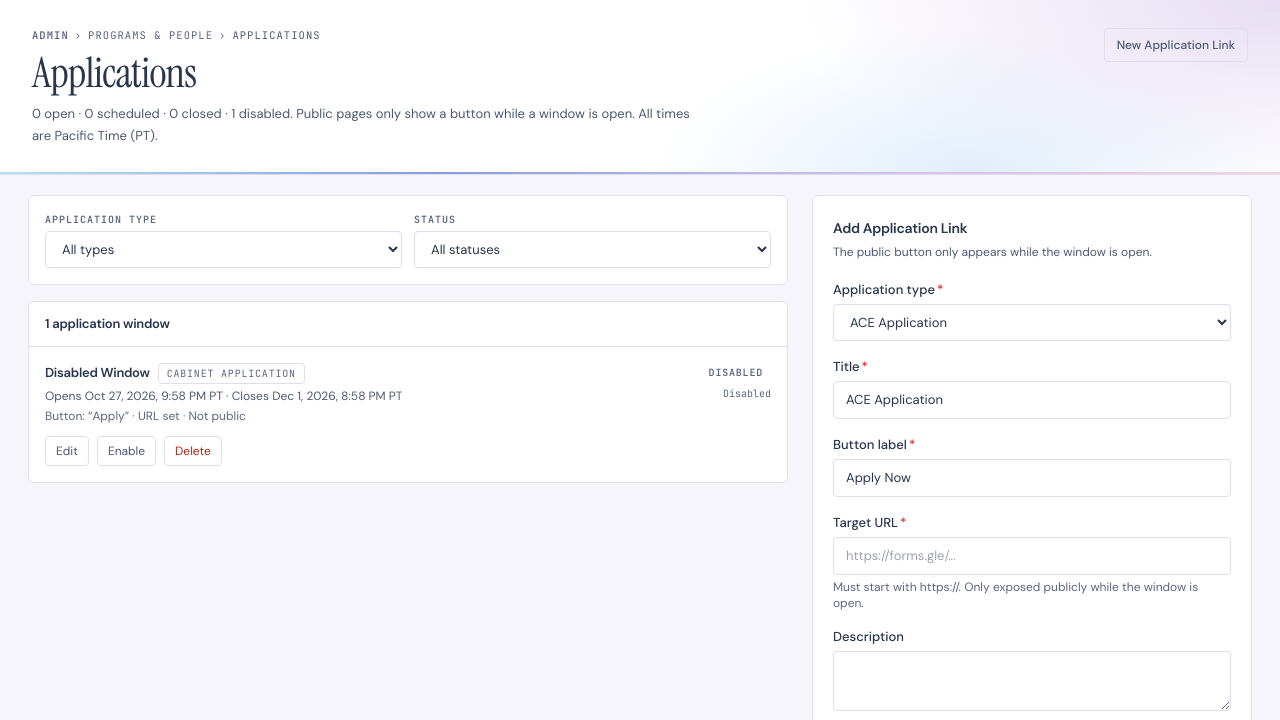
it: publishing needs an explicit yes › keeps the confirmation open with an error when enabling fails, instead of closing as if it worked
Click the button "Enable".
click(126, 451)  # box 97,436 -> 156,466
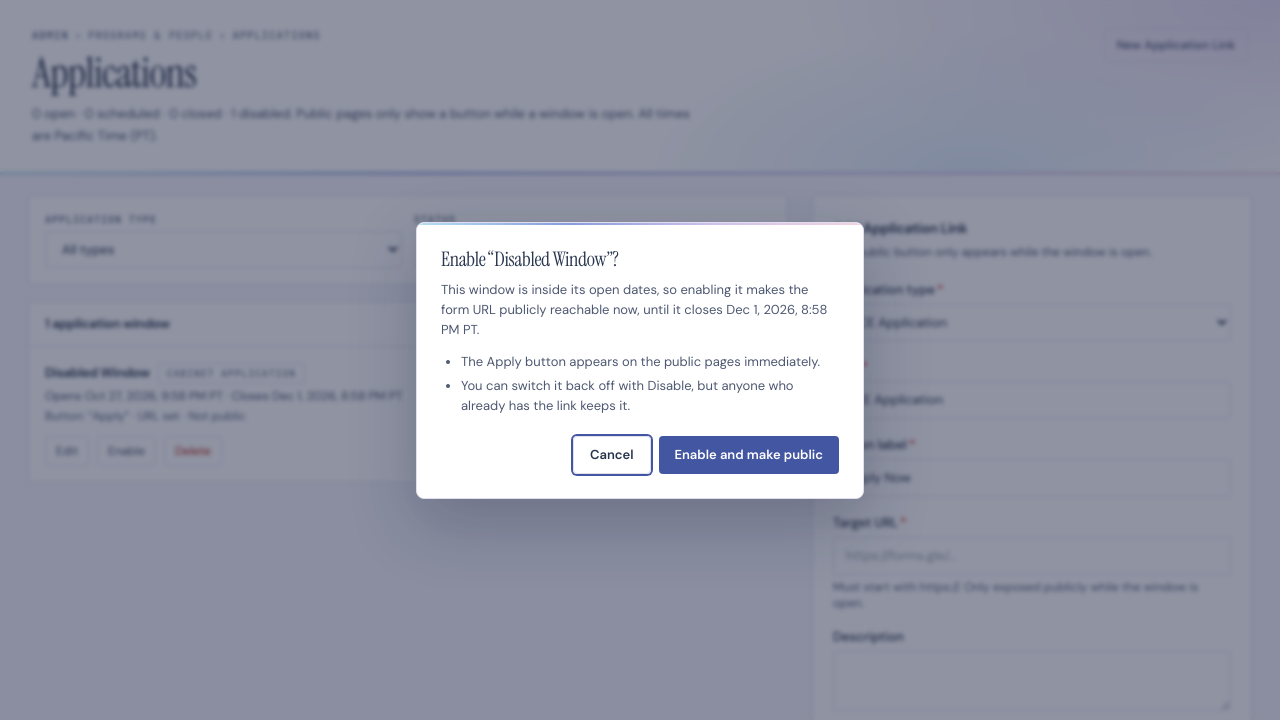
Click the button "Enable and make public".
click(749, 454)  # box 658,436 -> 839,474
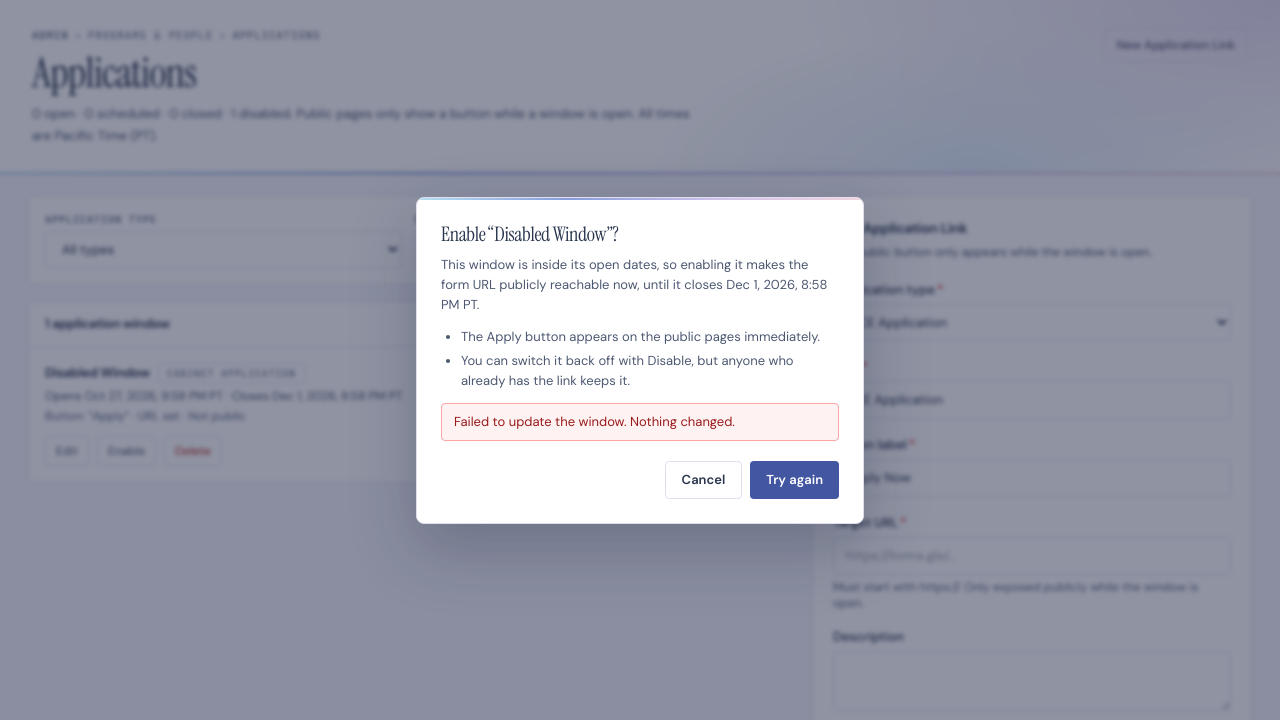
Expected: the text "Failed to update the window. Nothing changed." is shown, 441,402 -> 839,440
